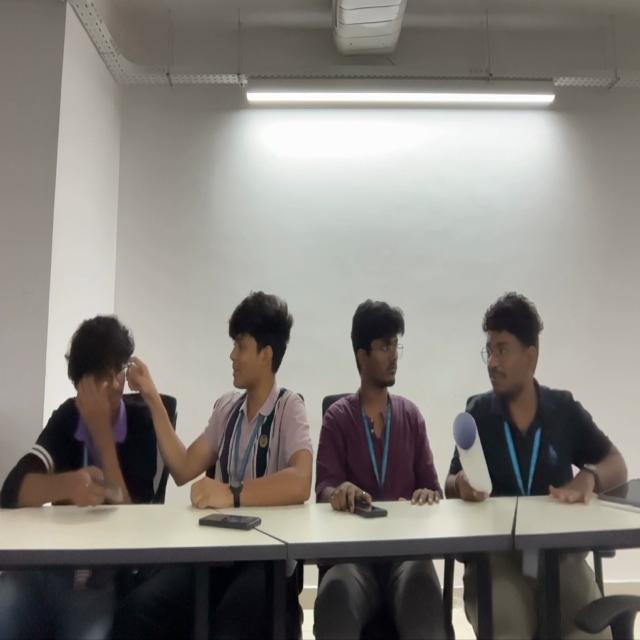Isolated: (452, 290, 626, 494), (321, 296, 437, 504)
socializing: (0, 288, 312, 506)
